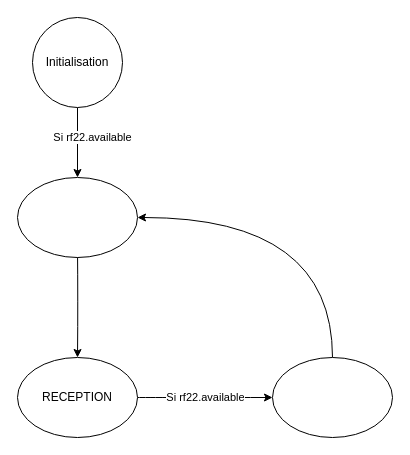
Image size: 410x455. Some labels were removed from this diagram. The centre of each missing label's shape, as x and y in pixels:
PRINT_FRAME: [332,397]
SET_RX: [77,217]
